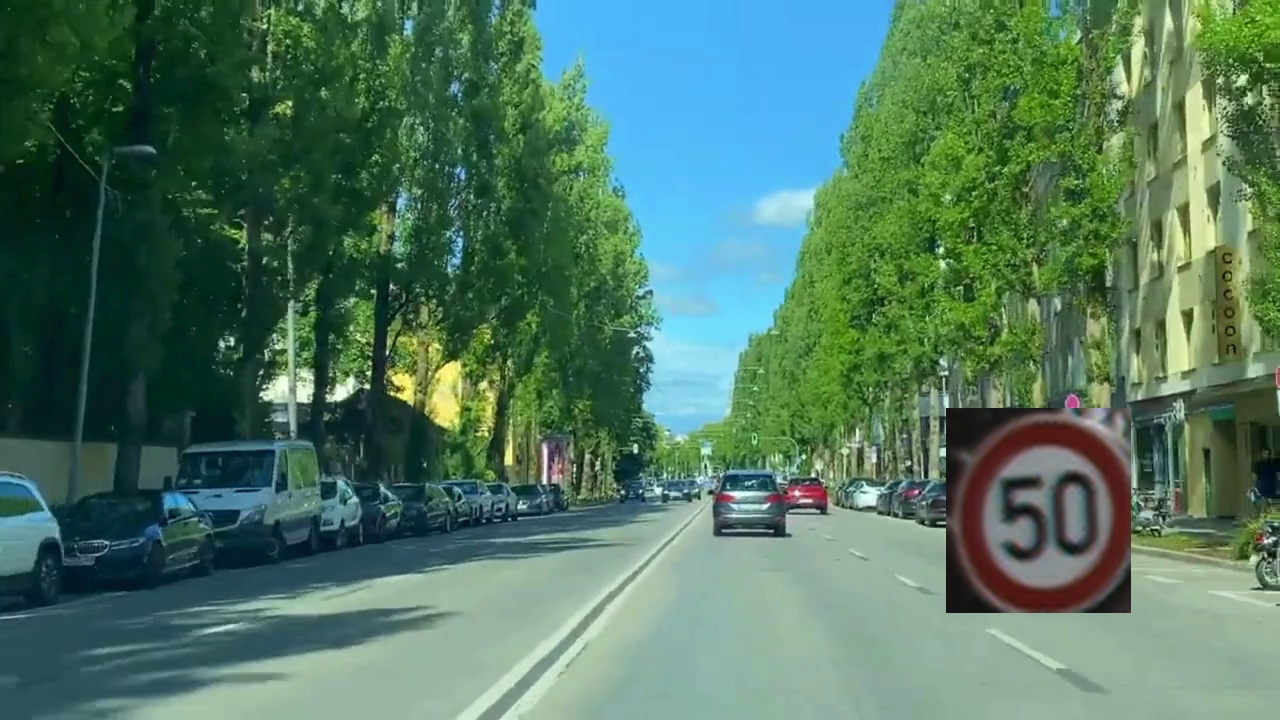Speed 50: (946, 408, 1131, 613)
